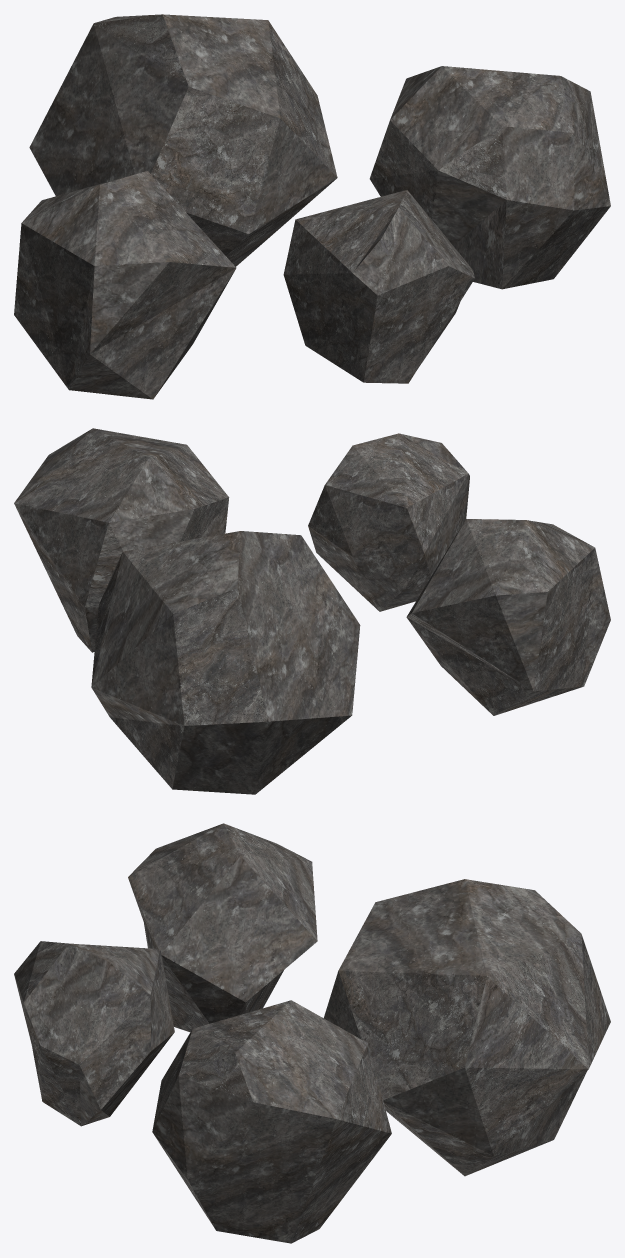
File: #03_Obj_Stone.FBX
3 views of the same model, one above another, from view 1: azimuth 30°, elevation 25°; view 2: azimuth 150°, elevation 25°; view 3: azimuth 270°, elevation 25° (orthographic). The views are drawn at different scales.
Parts seen in each view (by area): view 1: #03_Obj_Stone_002, #03_Obj_Stone_003, #03_Obj_Stone_001, #03_Obj_Stone_004; view 2: #03_Obj_Stone_002, #03_Obj_Stone_001, #03_Obj_Stone_003, #03_Obj_Stone_004; view 3: #03_Obj_Stone_002, #03_Obj_Stone_003, #03_Obj_Stone_001, #03_Obj_Stone_004.
Boxes of the visible parts, x1,y1,x2,y2 form: #03_Obj_Stone_002: (29,14,337,266); #03_Obj_Stone_003: (369,66,610,289); #03_Obj_Stone_001: (14,171,236,399); #03_Obj_Stone_004: (283,190,474,383); #03_Obj_Stone_002: (91,531,360,794); #03_Obj_Stone_001: (406,519,610,715); #03_Obj_Stone_003: (14,428,229,652); #03_Obj_Stone_004: (308,433,469,611); #03_Obj_Stone_002: (324,879,610,1176); #03_Obj_Stone_003: (152,1000,391,1243); #03_Obj_Stone_001: (128,823,317,1032); #03_Obj_Stone_004: (14,941,174,1126).
Size of the model in its own units: 820 by 785 by 386.
